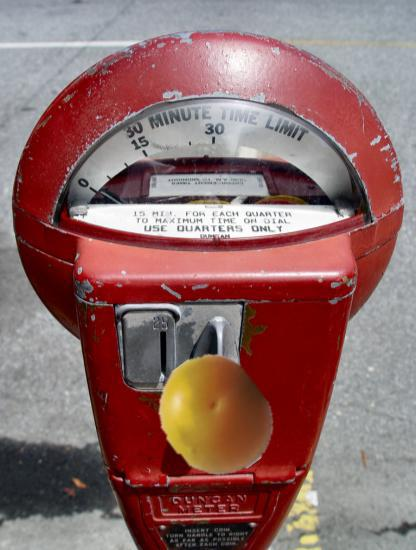Cherry: (152, 355, 276, 479)
